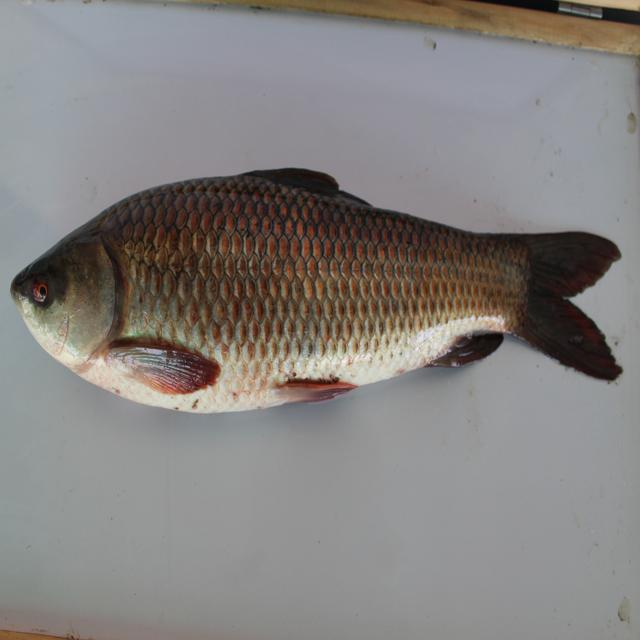Rohu: (26, 165, 622, 452)
